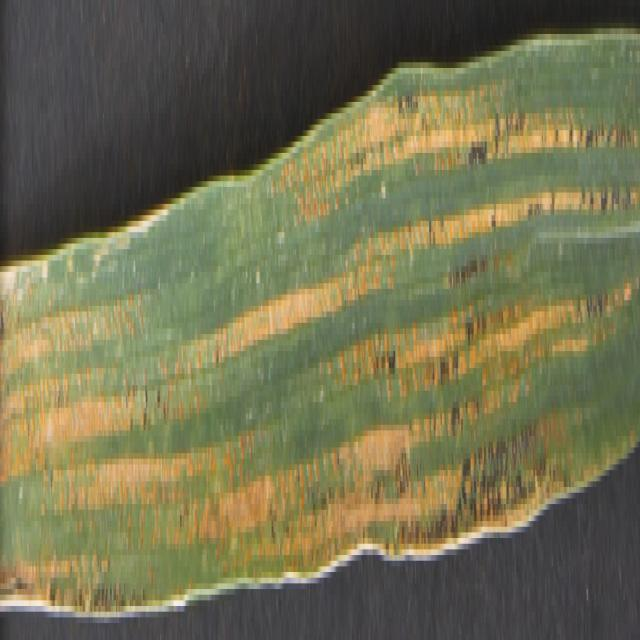leaf rust: (0, 79, 640, 639)
